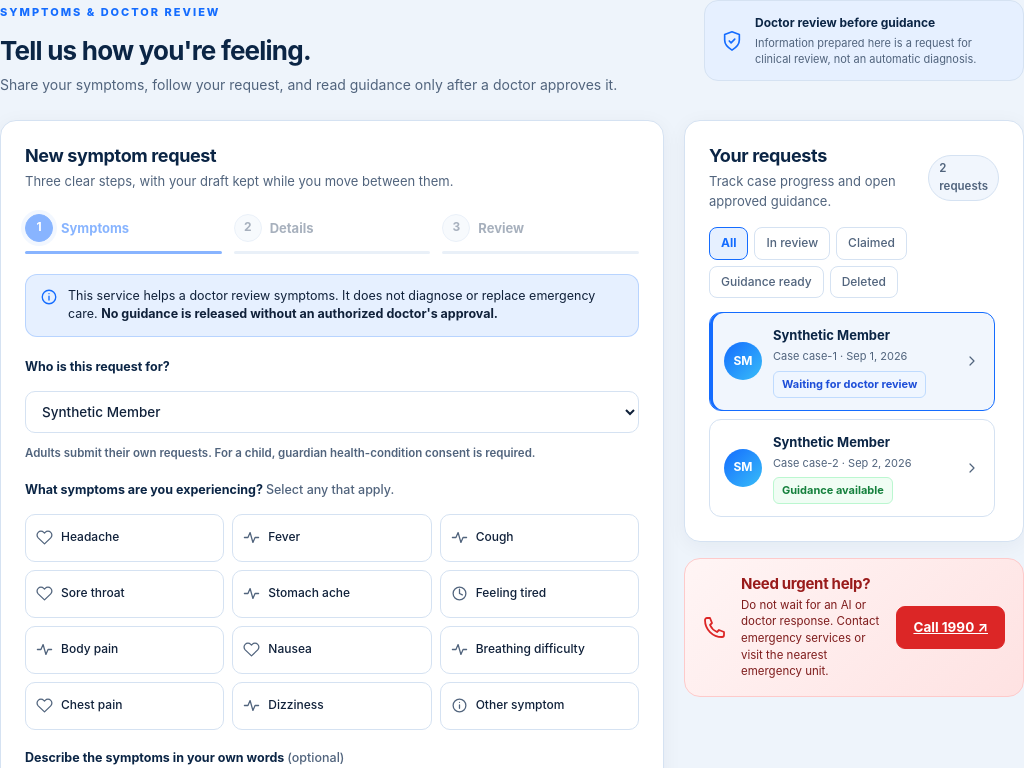
TriagePage › does not show guidance from a case that was deselected before its response arrived
This screenshot has width=1024, height=768.
Click the button that starts with "Synthetic Member".
click(852, 468)  # box [709,419,995,517]
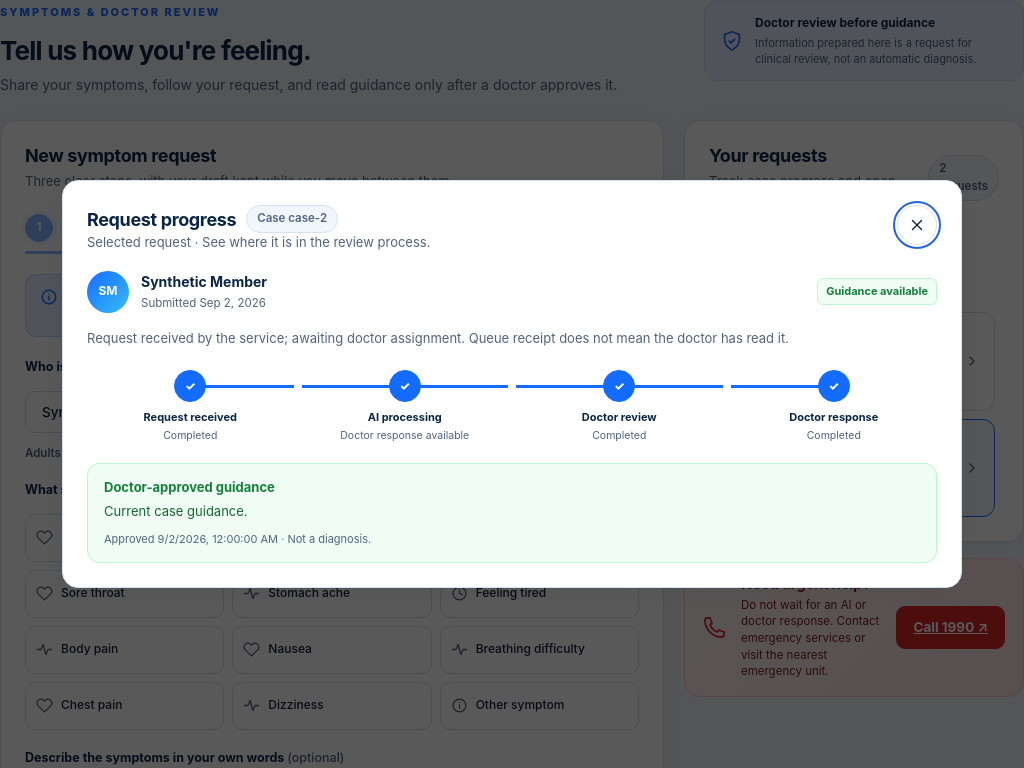
Now the text "Current case guidance." is shown, box [104,503,248,519]
